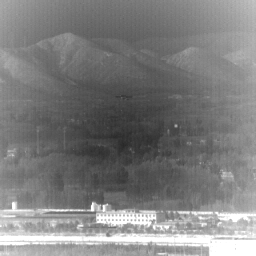Target: (173, 123, 179, 129)
